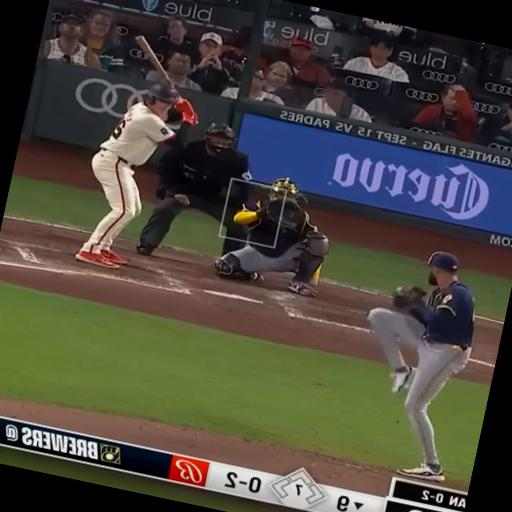bat: (135, 35, 173, 86)
